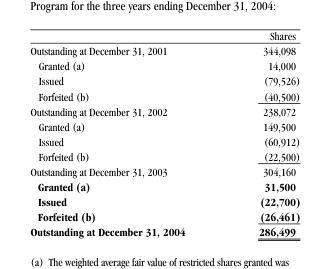table: (29, 29, 299, 237)
table column: (29, 29, 221, 237), (221, 29, 299, 237)
table column header: (29, 29, 299, 43)
table row: (29, 43, 299, 58), (29, 58, 299, 73), (29, 73, 299, 88), (29, 88, 299, 103), (29, 103, 299, 118), (29, 118, 299, 133), (29, 133, 299, 148), (29, 148, 299, 163), (29, 163, 299, 178), (29, 178, 299, 193), (29, 193, 299, 208), (29, 208, 299, 223), (29, 29, 299, 43), (29, 223, 299, 237)
